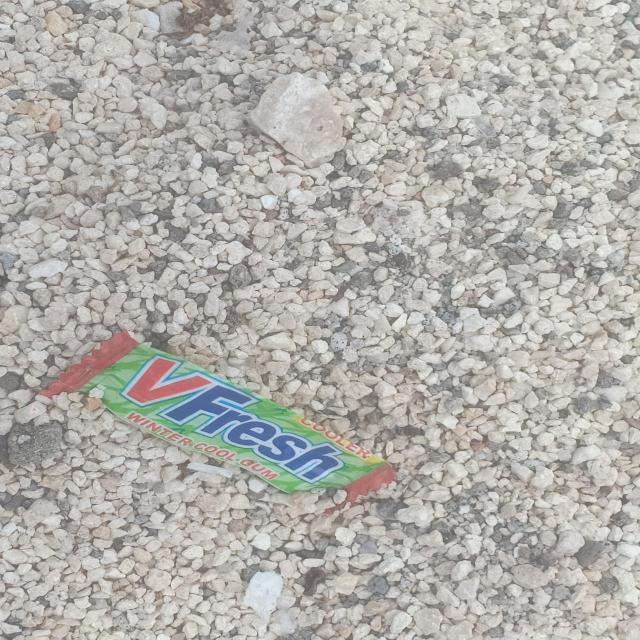plastic_waste: (68, 330, 401, 516)
